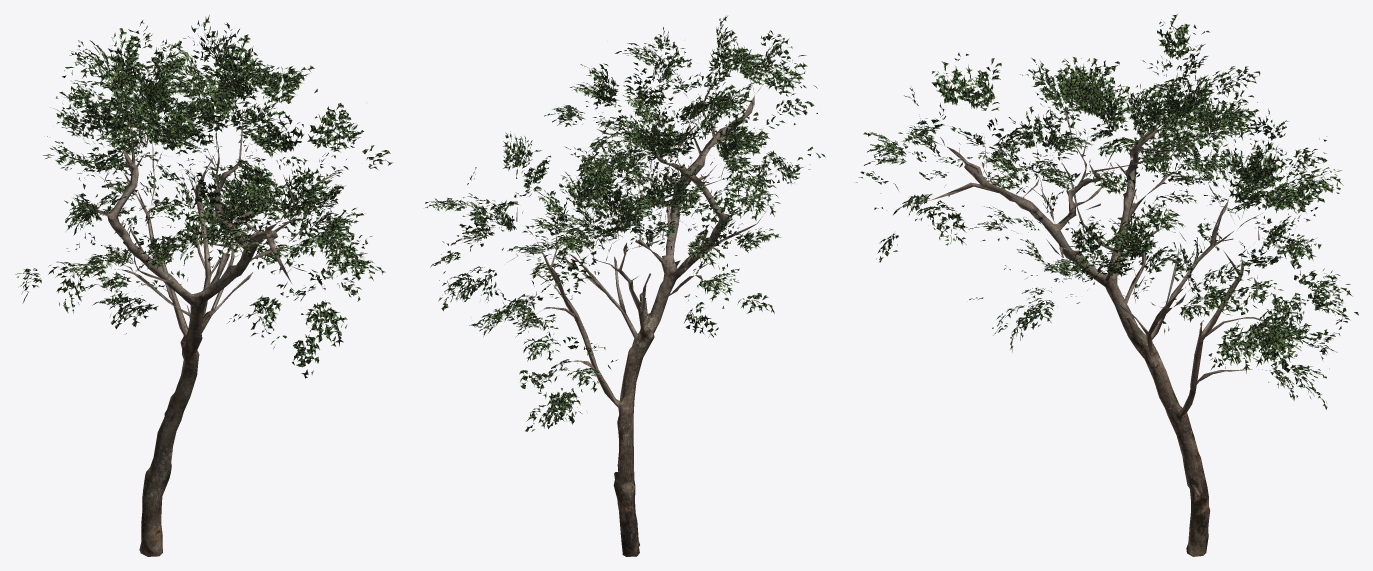
The model's file is tree_small_02.glb.
3 views of the same model, side by side, from view 1: azimuth 30°, elevation 25°; view 2: azimuth 150°, elevation 25°; view 3: azimuth 270°, elevation 25° (orthographic). The views are drawn at different scales.
Visible parts, largest first — view 1: tree_small_02_LOD0; view 2: tree_small_02_LOD0; view 3: tree_small_02_LOD0.
Boxes of the visible parts, x1,y1,x2,y2 form: tree_small_02_LOD0: [15, 15, 392, 556]; tree_small_02_LOD0: [425, 16, 825, 556]; tree_small_02_LOD0: [856, 14, 1358, 556].
Size of the model in its own units: 2.9 by 4.55 by 4.16.
Materials: 3 (3 with a texture image).
